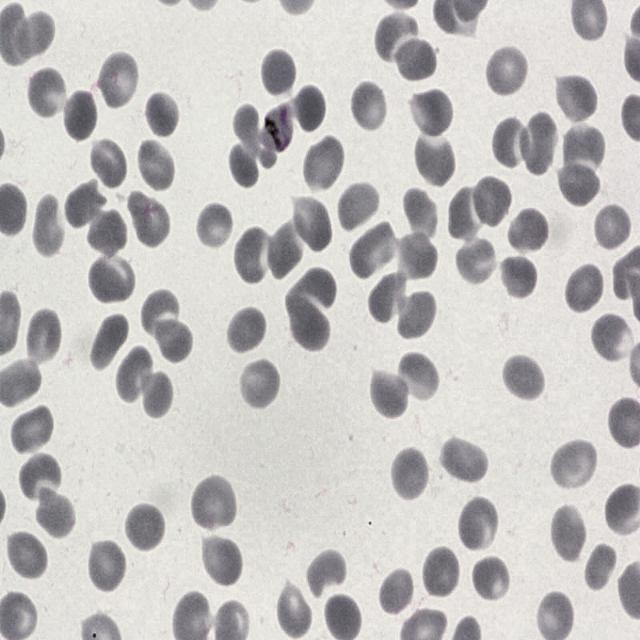red blood cell: (347, 220, 400, 282), (189, 471, 238, 533), (124, 188, 172, 250), (138, 288, 185, 350), (372, 12, 422, 70), (114, 342, 158, 406), (518, 110, 560, 177), (335, 179, 382, 237), (438, 432, 489, 485), (288, 194, 333, 254), (302, 133, 346, 194), (96, 50, 140, 111), (457, 494, 501, 555), (488, 114, 534, 172), (234, 222, 275, 286), (484, 43, 530, 99), (393, 286, 439, 342), (554, 69, 601, 123), (289, 294, 331, 354), (445, 183, 486, 244), (88, 253, 137, 304), (199, 533, 244, 588), (396, 350, 440, 406), (33, 484, 77, 540), (412, 132, 456, 188), (368, 363, 411, 420), (407, 88, 455, 139), (550, 441, 598, 492), (366, 271, 412, 324), (238, 357, 282, 412), (391, 33, 438, 84), (305, 549, 350, 602), (10, 404, 54, 458), (26, 66, 69, 121), (550, 502, 588, 564), (86, 538, 128, 594), (135, 138, 176, 195), (398, 185, 439, 242), (454, 234, 498, 287), (5, 529, 48, 583), (25, 307, 63, 368), (470, 174, 512, 229), (494, 251, 540, 301), (501, 353, 546, 404), (506, 206, 550, 258), (64, 180, 108, 232), (90, 313, 126, 376), (87, 136, 128, 191), (348, 79, 389, 134), (276, 580, 314, 639), (390, 446, 430, 502), (124, 501, 166, 554), (421, 545, 461, 600), (225, 305, 268, 356), (470, 553, 512, 605), (562, 124, 604, 176), (86, 209, 128, 260), (564, 262, 604, 315), (592, 199, 632, 252), (150, 319, 197, 364), (289, 267, 336, 312), (60, 88, 98, 143), (19, 453, 62, 501), (590, 316, 633, 363), (378, 565, 416, 618), (15, 10, 54, 60), (558, 164, 602, 208), (34, 194, 64, 258), (398, 234, 438, 282), (197, 203, 237, 250), (268, 223, 302, 278), (262, 50, 300, 97), (140, 367, 172, 418), (295, 83, 327, 132), (143, 89, 177, 134), (228, 144, 261, 189), (585, 544, 617, 590), (234, 103, 261, 156)
trophozoite: (262, 97, 296, 154)
